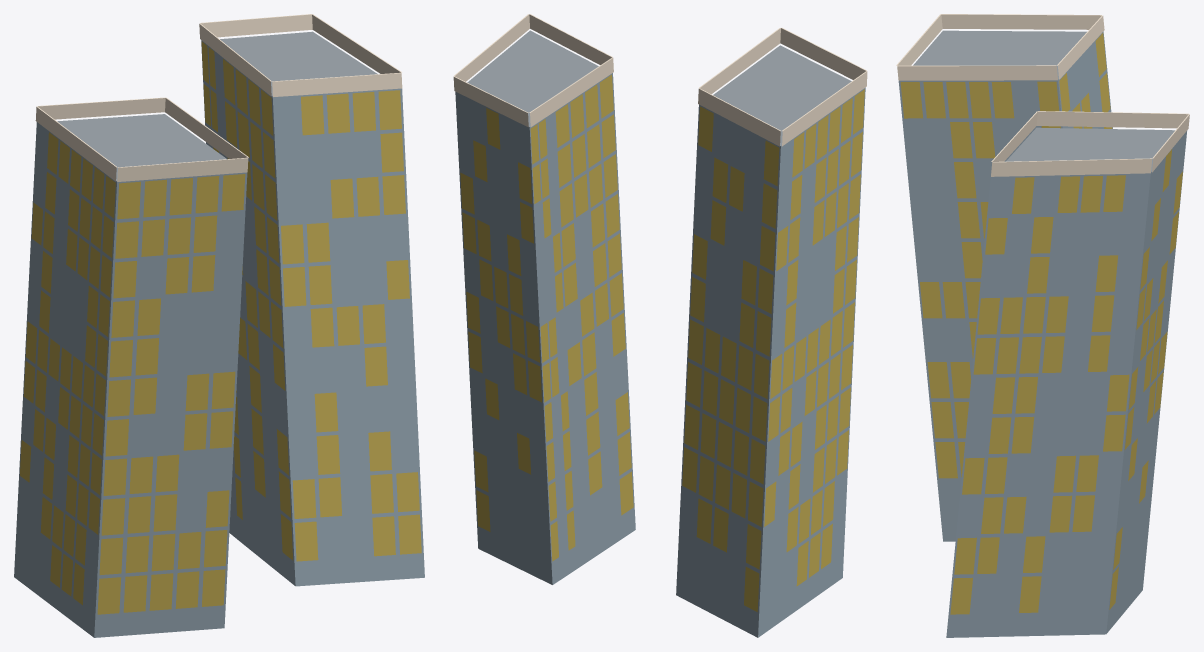
The picture shows the model from 3 angles, left to right: view 1: azimuth 30°, elevation 25°; view 2: azimuth 150°, elevation 25°; view 3: azimuth 270°, elevation 25°; orthographic projection. The views are drawn at different scales.
Parts seen in each view (by area): view 1: veer-towers; view 2: veer-towers; view 3: veer-towers.
Boxes of the visible parts, left/top/right/bottom form: veer-towers: left=14, top=14, right=424, bottom=637; veer-towers: left=453, top=14, right=867, bottom=637; veer-towers: left=896, top=14, right=1189, bottom=637.
Size of the model in its own units: 88.3 by 132 by 73.86.
